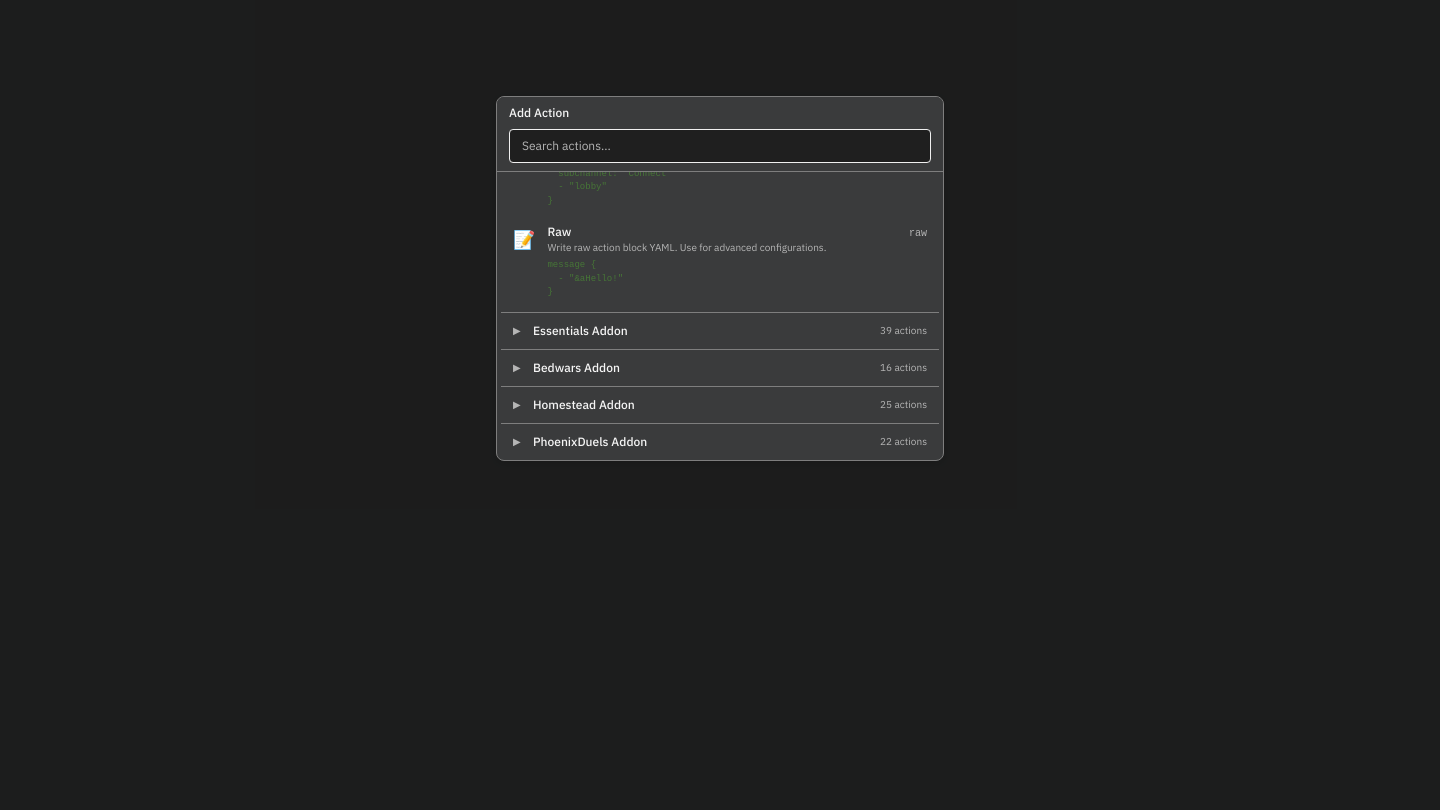
Test: ActionPicker addon sections › says which ids take a value and which do not
This screenshot has width=1440, height=810.
(page scrolled)
Click the button "▶ Bedwars Addon 16 actions".
click(576, 367)  # box [501,354,939,382]
(page scrolled)
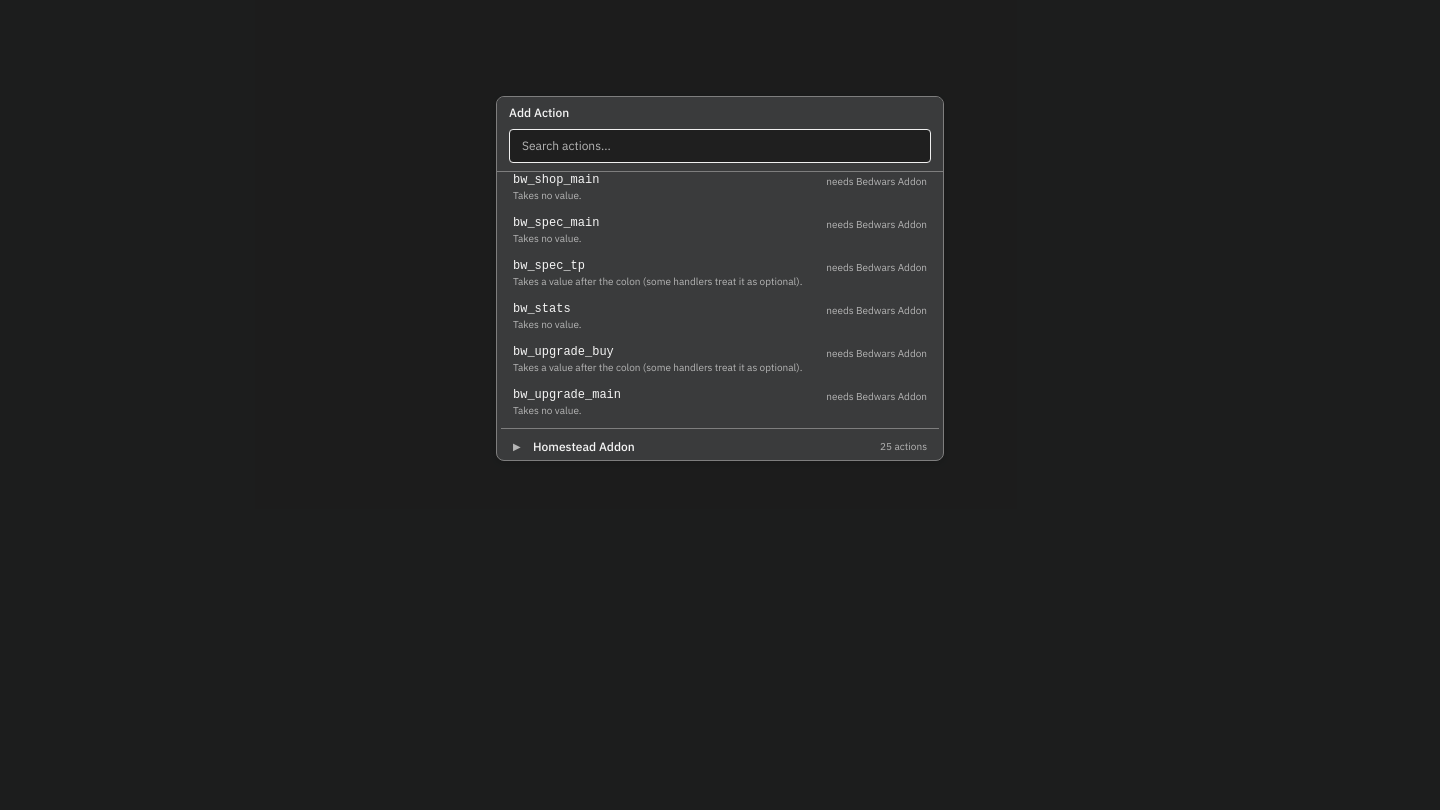
Expected: the button "bw_stats Takes no value. needs Bedwars Addon" is shown, [501,294,939,338]
